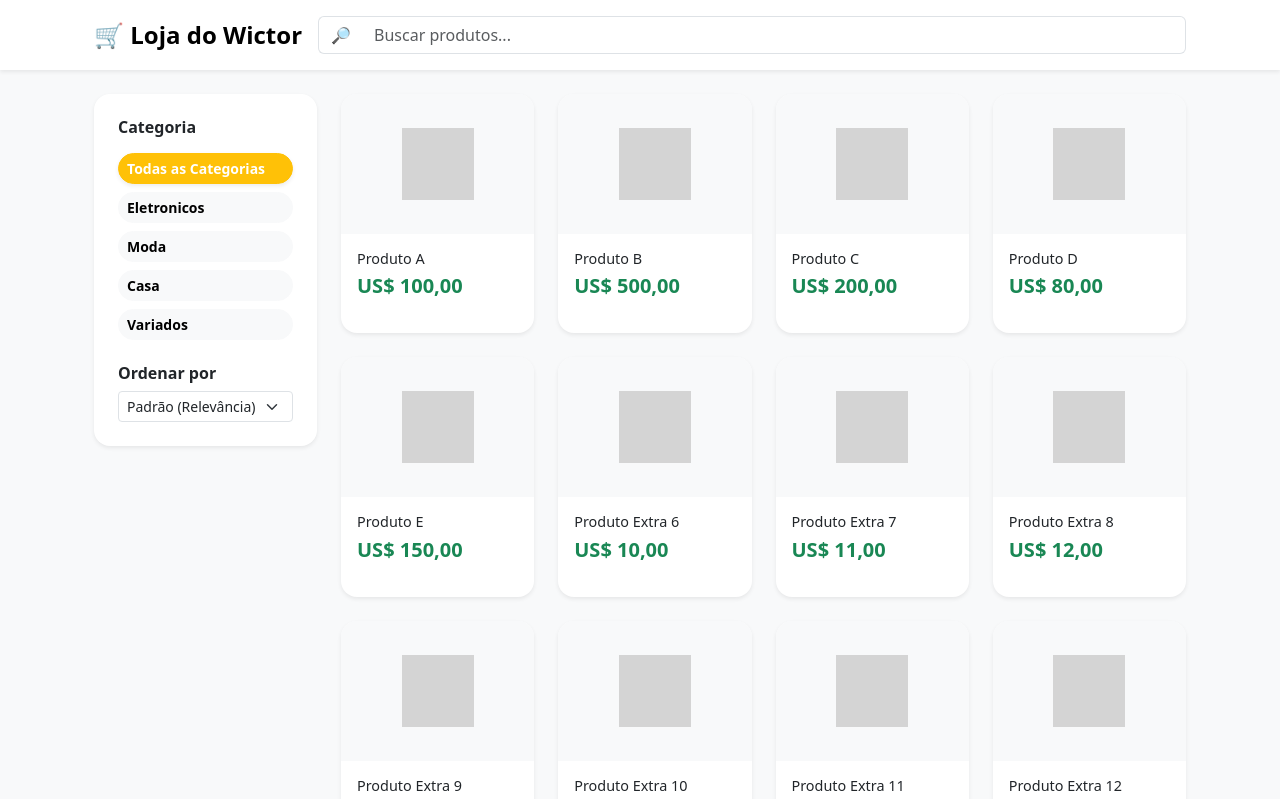
Test: App Component (Lógica Principal) › deve filtrar a lista por texto corretamente
This screenshot has width=1280, height=799.
Expected: the text "Produto A" is shown, [357,249,425,268]
Type "Produto B" into the field with placeholder "Buscar produtos..." at (774, 35), box [362,16,1186,54]
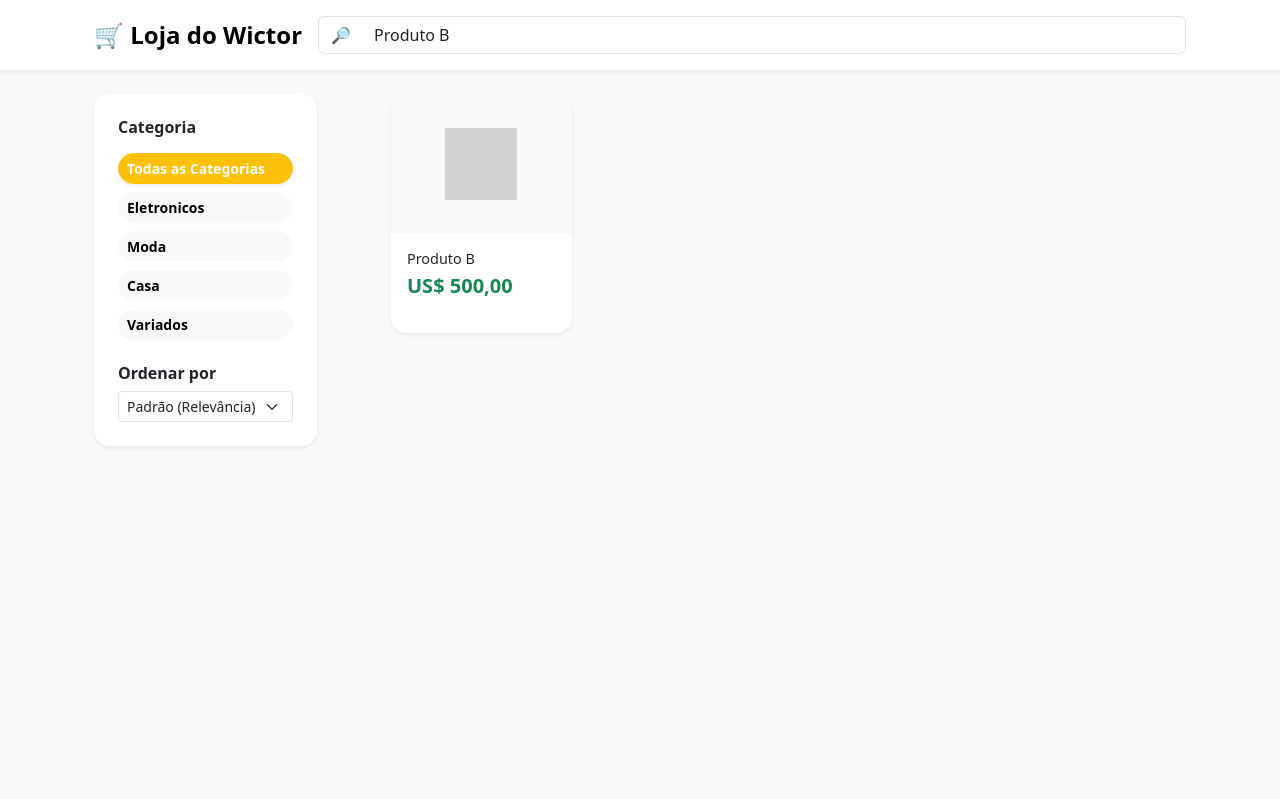
Expected: the text "Produto B" is shown, [407,249,475,268]
Expected: the text "Produto A" is gone
